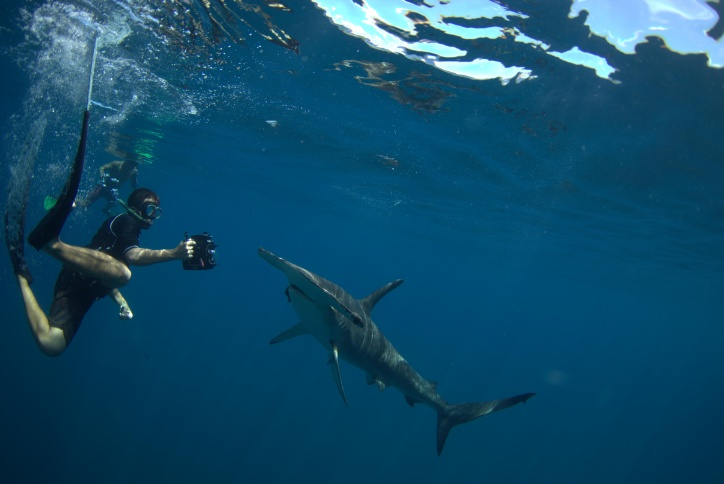Hammer: (244, 223, 558, 469)
